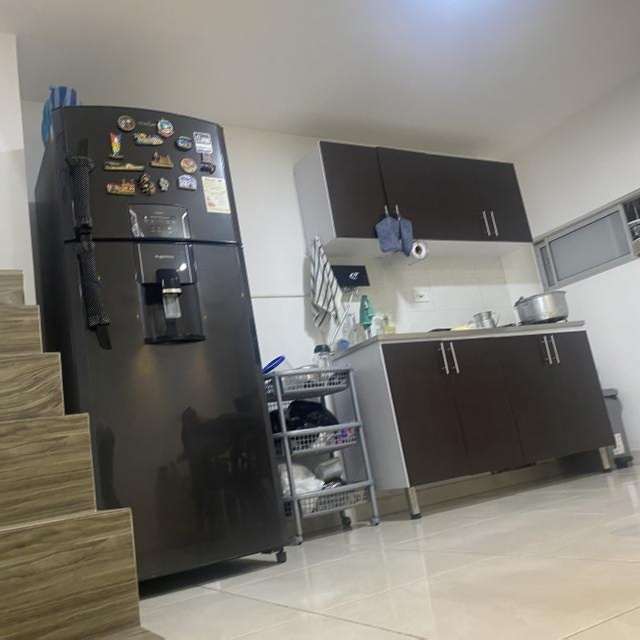obstacle: (18, 103, 315, 561), (342, 319, 640, 483), (279, 349, 376, 543)
stair: (3, 253, 202, 640)
